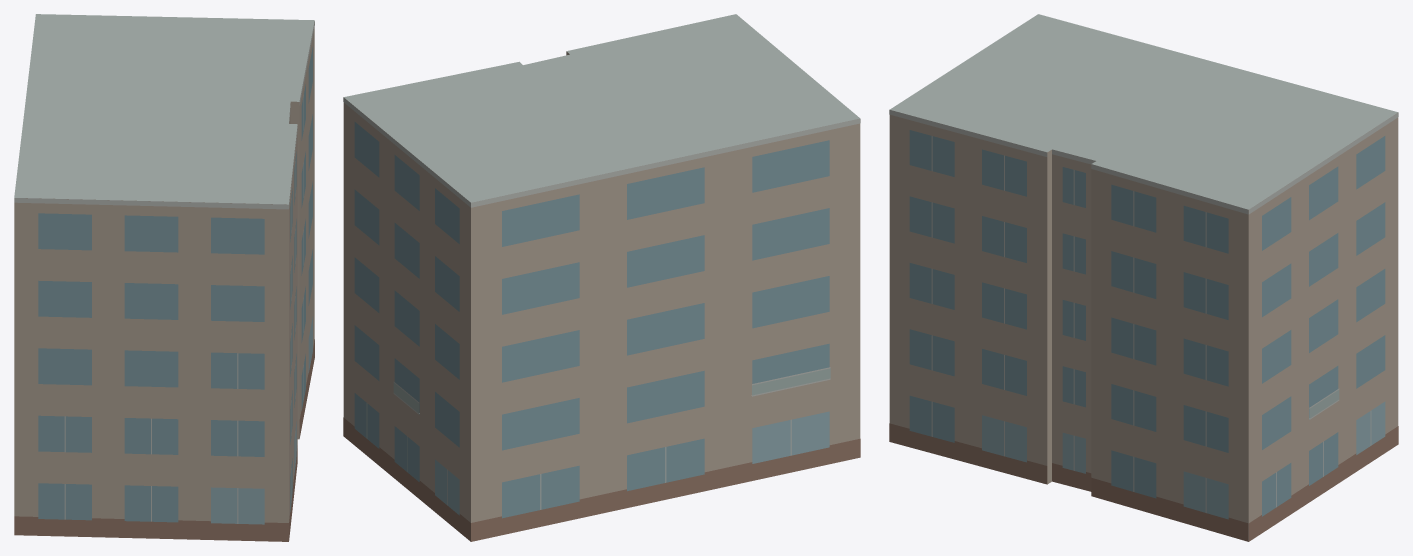
The model's file is survey-upis-32707419.glb.
3 views of the same model, side by side, from view 1: azimuth 30°, elevation 25°; view 2: azimuth 150°, elevation 25°; view 3: azimuth 270°, elevation 25° (orthographic). The views are drawn at different scales.
Parts seen in each view (by area): view 1: survey-upis-32707419.tmp; view 2: survey-upis-32707419.tmp; view 3: survey-upis-32707419.tmp.
Boxes of the visible parts, x1,y1,x2,y2 form: survey-upis-32707419.tmp: (14,14,314,541); survey-upis-32707419.tmp: (343,14,860,541); survey-upis-32707419.tmp: (889,14,1398,541).
Bounding box in the file's own units: 21.05 × 16.65 × 23.13.
